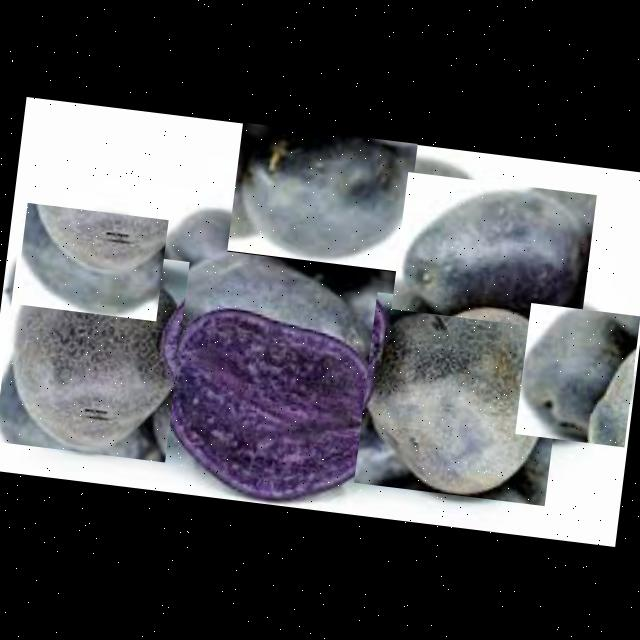Damaged potato: (352, 290, 566, 505), (0, 240, 188, 461), (390, 170, 596, 330), (225, 120, 417, 272), (162, 241, 376, 360), (14, 201, 167, 320), (514, 301, 639, 446)
Defected potato: (137, 294, 396, 512)
